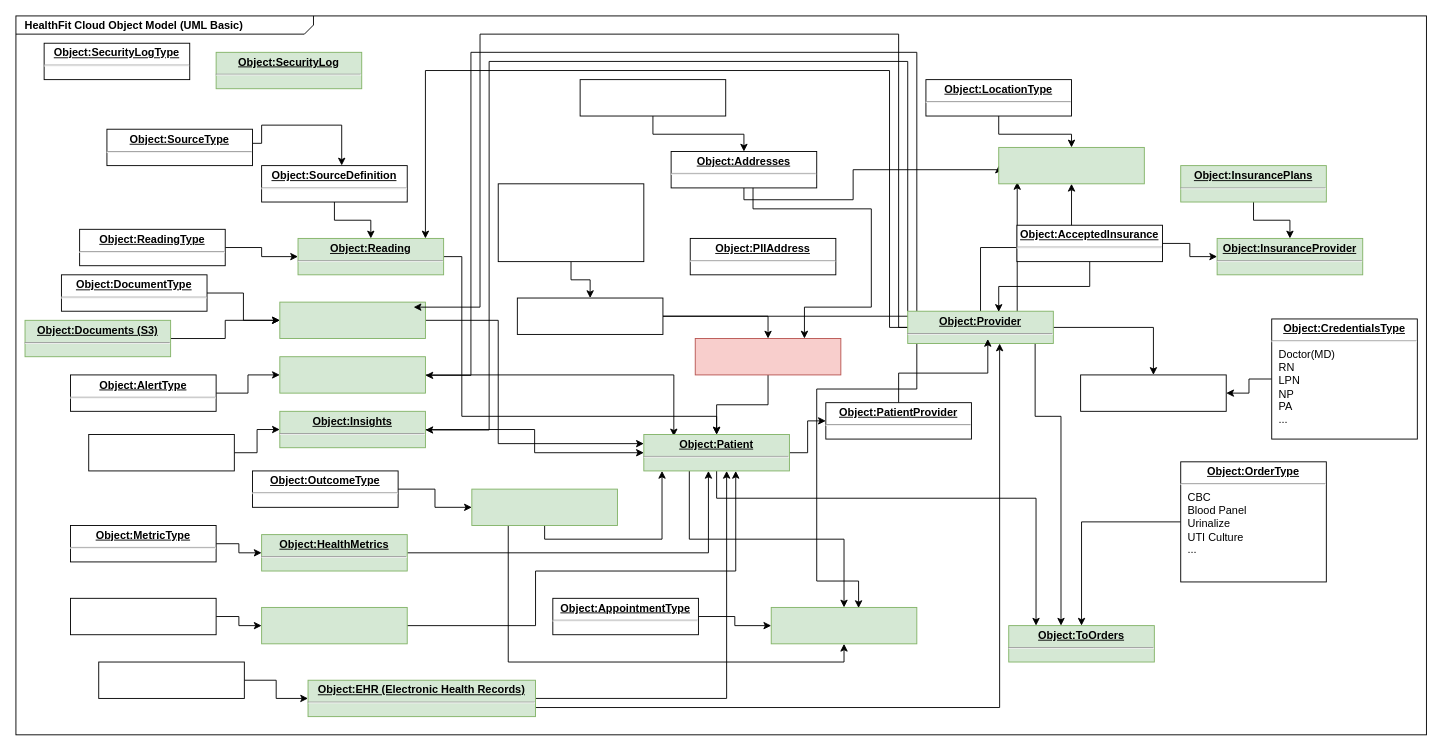
Some shapes in this 1442 by 751 pixel diagram are drawn without their labels. Each missing label, with the centre of its shape:
"Object:AddressType" belongs at (652,97).
"Object:Alerts" belongs at (352,374).
"Object:Appointments" belongs at (843,625).
"Object:ContactType Phone Email Cell" belongs at (570,222).
"Object:ContactValues" belongs at (589,315).
"Object:Credentials" belongs at (1153,392).
"Object:EHRType" belongs at (171,679).
"Object:InsightType" belongs at (161,452).
"Object:Locations" belongs at (1071,165).
"Object:MetaDocument" belongs at (352,320).
"Object:PAType" belongs at (143,616).
"Object:PII" belongs at (767,356).
"Object:PredictiveAnalytics" belongs at (334,625).
"Object:ReportedOutcomes" belongs at (544,507).
